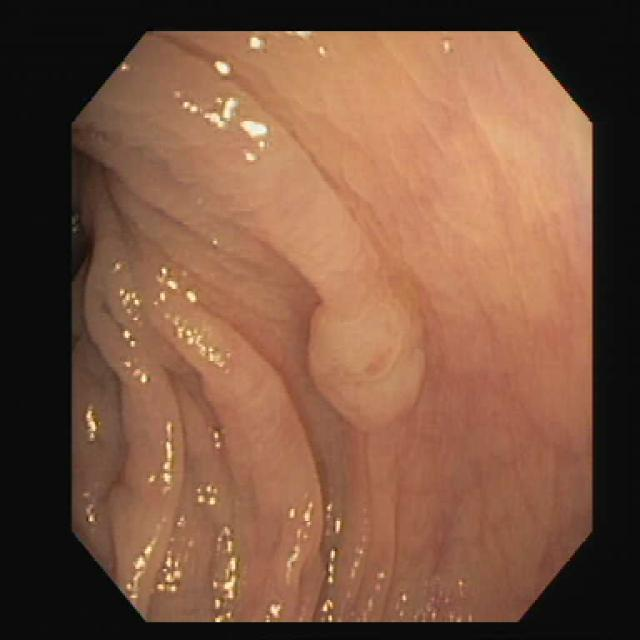tumor: (310, 271, 423, 429)
